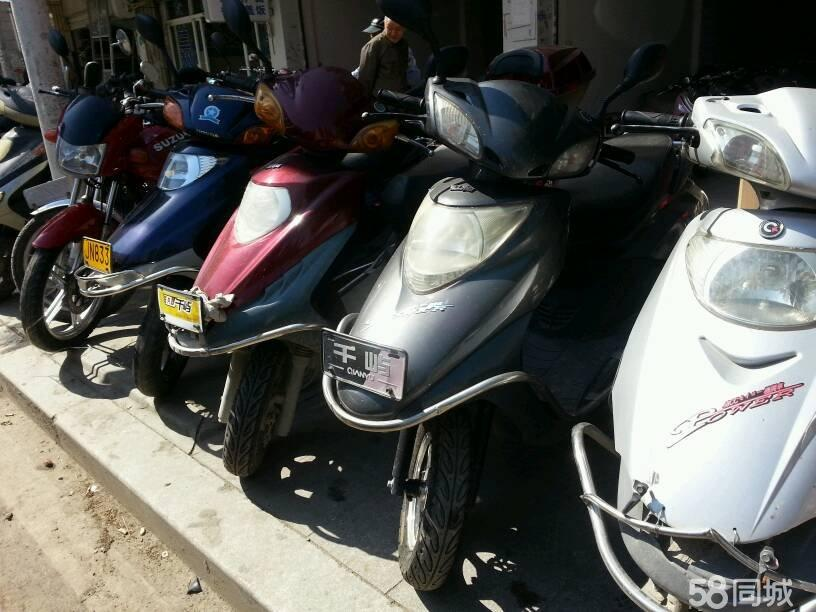电动车: (326, 57, 595, 612), (584, 69, 816, 601), (172, 66, 407, 507), (75, 60, 223, 383), (22, 58, 139, 362)
